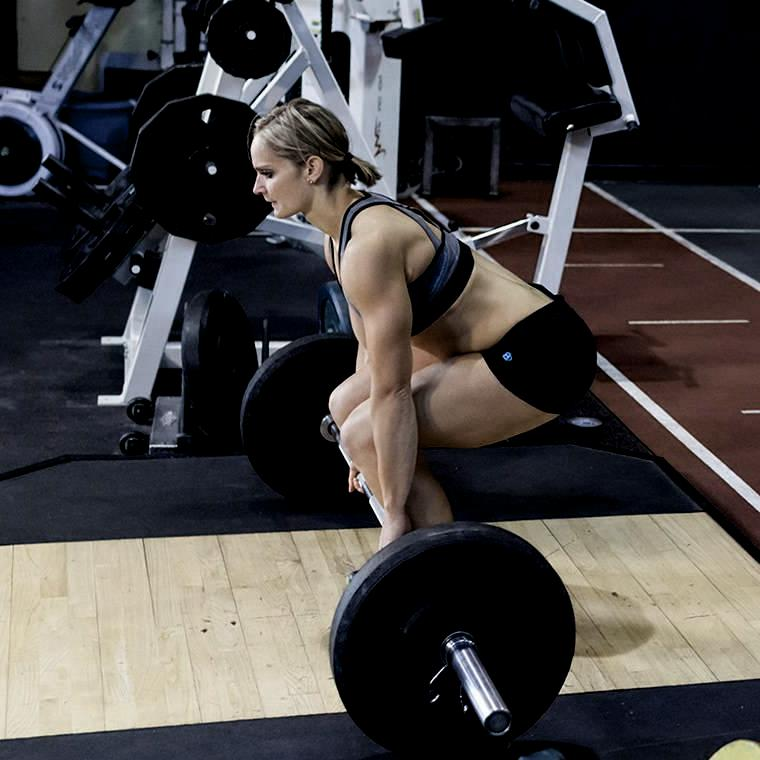Barbell: (475, 706, 513, 742)
